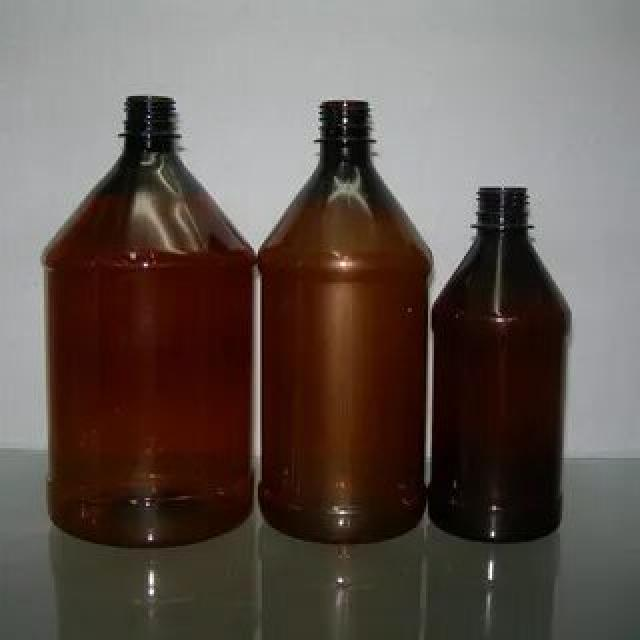brown: (42, 97, 255, 545), (262, 100, 426, 545), (435, 188, 570, 544)
